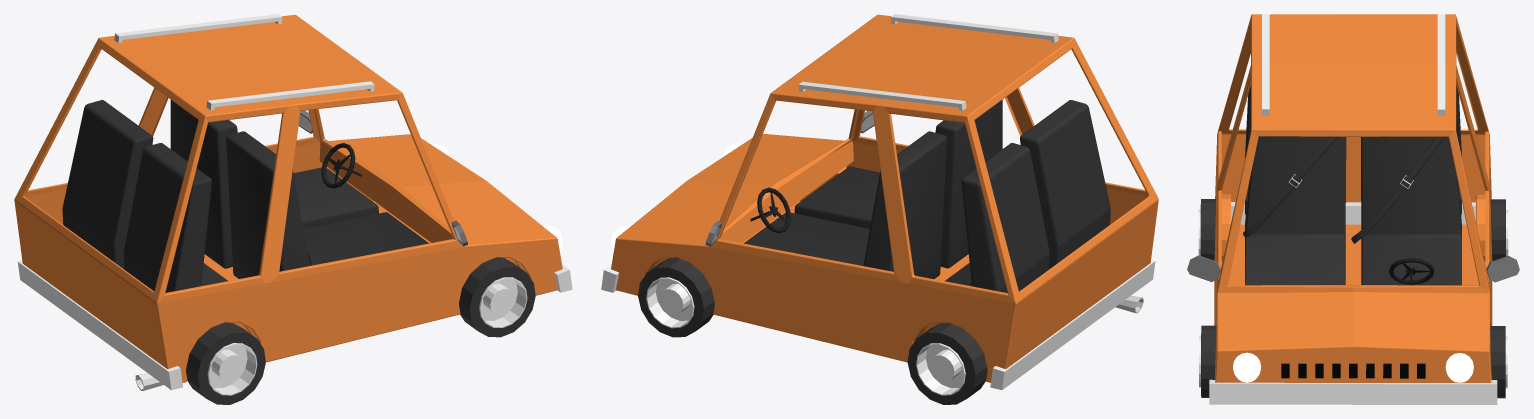
The model's file is car.glb.
The picture shows the model from 3 angles, left to right: view 1: azimuth 30°, elevation 25°; view 2: azimuth 150°, elevation 25°; view 3: azimuth 270°, elevation 25°; orthographic projection. The views are drawn at different scales.
Parts seen in each view (by area): view 1: Cube_0, Cube.008_12, Cube.011_15, Cube.010_14, Cube.009_13, Cylinder.001_4, Cylinder.003_3, Cube.002_2, Cube.003_7, Cube.004_8, Torus_19; view 2: Cube_0, Cube.009_13, Cube.010_14, Cube.011_15, Cube.008_12, Cylinder.004_6, Cylinder.002_5, Cube.002_2, Cube.003_7, Cube.004_8, Torus_19; view 3: Cube_0, Cube.008_12, Cube.009_13, Cube.001_1, Cube.007_11, Cylinder.002_5, Cylinder.003_3, Cylinder.004_6, Cylinder.001_4, Plane_21, Plane.001_22, Cube.004_8 (+9 smaller).
Part boxes in pixels (left/top/right/bottom): Cube_0: left=14, top=14, right=562, bottom=382; Cube.008_12: left=226, top=131, right=428, bottom=278; Cube.011_15: left=62, top=100, right=153, bottom=269; Cube.010_14: left=123, top=143, right=227, bottom=292; Cube.009_13: left=170, top=100, right=378, bottom=268; Cylinder.001_4: left=186, top=322, right=265, bottom=404; Cylinder.003_3: left=459, top=257, right=535, bottom=337; Cube.002_2: left=18, top=260, right=182, bottom=390; Cube.003_7: left=206, top=81, right=374, bottom=110; Cube.004_8: left=114, top=14, right=282, bottom=43; Torus_19: left=321, top=143, right=361, bottom=188; Cube_0: left=611, top=14, right=1158, bottom=382; Cube.009_13: left=744, top=131, right=946, bottom=278; Cube.010_14: left=1020, top=100, right=1110, bottom=269; Cube.011_15: left=944, top=143, right=1049, bottom=292; Cube.008_12: left=794, top=100, right=1002, bottom=268; Cylinder.004_6: left=907, top=322, right=987, bottom=404; Cylinder.002_5: left=638, top=257, right=714, bottom=337; Cube.002_2: left=990, top=259, right=1155, bottom=390; Cube.003_7: left=890, top=14, right=1058, bottom=43; Cube.004_8: left=798, top=81, right=966, bottom=110; Torus_19: left=750, top=187, right=790, bottom=233; Cube_0: left=1214, top=14, right=1492, bottom=382; Cube.008_12: left=1245, top=136, right=1346, bottom=285; Cube.009_13: left=1360, top=137, right=1461, bottom=285; Cube.001_1: left=1209, top=379, right=1497, bottom=404; Cube.007_11: left=1281, top=363, right=1425, bottom=378; Cylinder.002_5: left=1490, top=326, right=1507, bottom=398; Cylinder.003_3: left=1199, top=325, right=1216, bottom=397; Cylinder.004_6: left=1490, top=199, right=1508, bottom=260; Cylinder.001_4: left=1198, top=199, right=1215, bottom=260; Plane_21: left=1351, top=137, right=1444, bottom=243; Plane.001_22: left=1243, top=137, right=1337, bottom=236; Cube.004_8: left=1437, top=14, right=1445, bottom=115.
Size of the model in its own units: 3.38 by 2.12 by 2.44.
